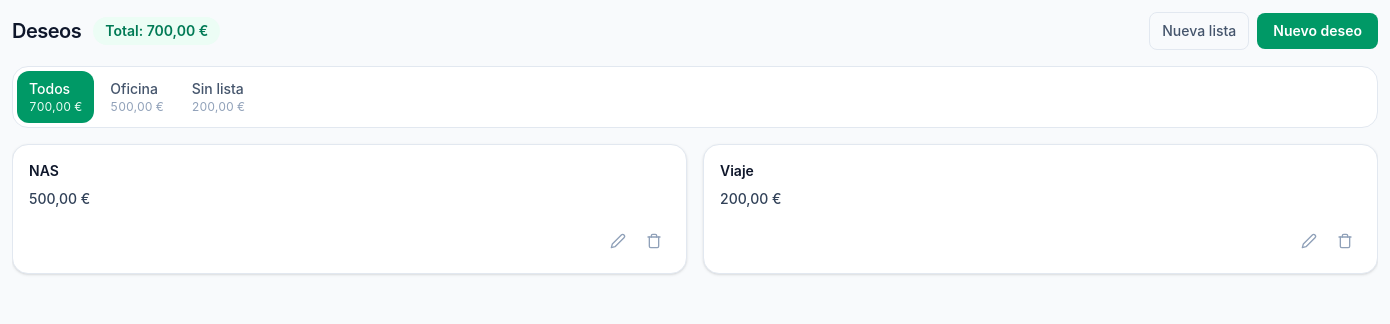
WishlistPage › with lists › shows each list with its total and filters the wishes
Expected: the text "NAS" is shown, top-left (29, 161), bottom-right (59, 181)
Expected: the text "Viaje" is shown, top-left (720, 161), bottom-right (754, 181)
Step 1. Click the button "Oficina 500,00 €" → (137,97), box top-left (98, 71), bottom-right (176, 123)
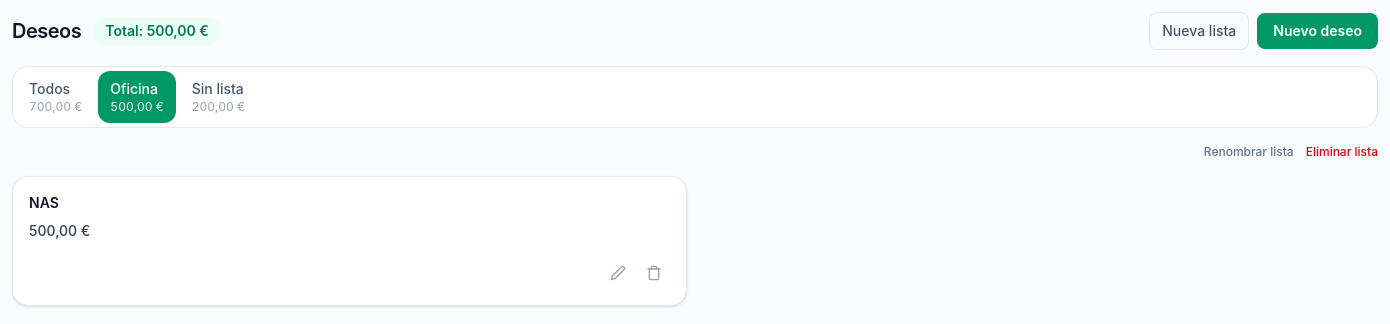
Expected: the text "NAS" is shown, top-left (29, 193), bottom-right (59, 213)
Now the text "Viaje" is gone
Now the text "Total: 500,00 €" is shown, box top-left (93, 17), bottom-right (221, 45)
Step 2. Click the button "Sin lista 200,00 €" → (218,97), box top-left (180, 71), bottom-right (257, 123)
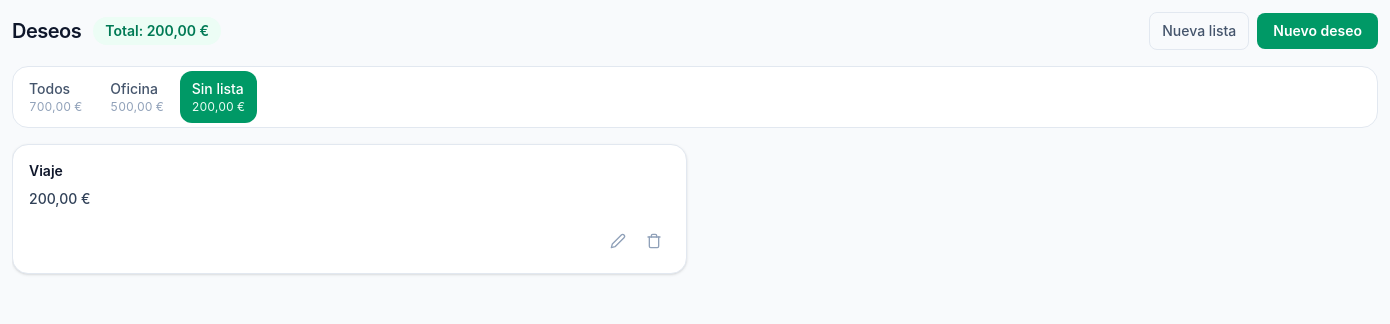
Now the text "Viaje" is shown, box top-left (29, 161), bottom-right (63, 181)
Now the text "NAS" is gone
